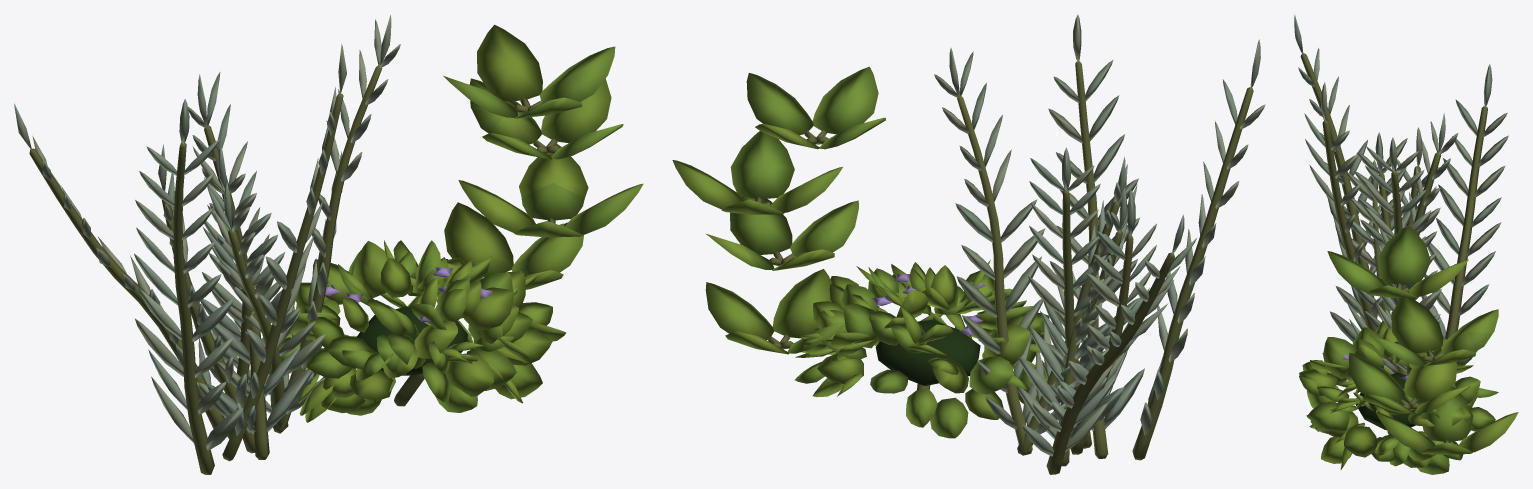
File: box_herbs.glb
The picture shows the model from 3 angles, left to right: view 1: azimuth 30°, elevation 25°; view 2: azimuth 150°, elevation 25°; view 3: azimuth 270°, elevation 25°; orthographic projection. The views are drawn at different scales.
Visible parts, largest first — view 1: Sammel Pflanze, Sammel Putz, Sammel Blatt; view 2: Sammel Pflanze, Sammel Putz, Sammel Blatt; view 3: Sammel Pflanze, Sammel Putz, Sammel Blatt.
Part boxes in pixels (x1,y1,x2,y2): Sammel Pflanze: (14,15,643,450); Sammel Putz: (29,65,564,474); Sammel Blatt: (357,306,467,375); Sammel Pflanze: (672,14,1265,456); Sammel Putz: (755,61,1253,474); Sammel Blatt: (875,320,980,385); Sammel Pflanze: (1294,14,1518,474); Sammel Putz: (1300,53,1487,445); Sammel Blatt: (1355,372,1426,430).
Bounding box in the file's own units: 0.3573 × 0.2607 × 0.1583.
